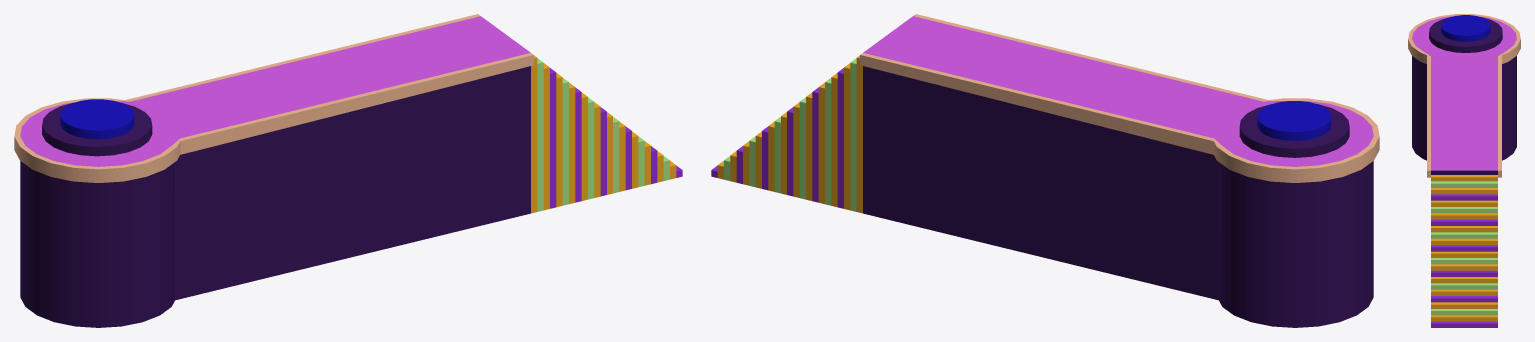
Rendered from stairs.fbx.
The picture shows the model from 3 angles, left to right: view 1: azimuth 30°, elevation 25°; view 2: azimuth 150°, elevation 25°; view 3: azimuth 270°, elevation 25°; orthographic projection. The views are drawn at different scales.
Parts seen in each view (by area): view 1: Box001, Cylinder001, Cylinder002; view 2: Box001, Cylinder001, Cylinder002; view 3: Box001, Cylinder001, Cylinder002.
Part boxes in pixels (x1,y1,x2,y2): Box001: (14,14,682,327); Cylinder001: (42,102,152,156); Cylinder002: (60,99,134,139); Box001: (711,14,1379,327); Cylinder001: (1239,104,1349,157); Cylinder002: (1257,101,1331,140); Box001: (1408,14,1520,327); Cylinder001: (1429,17,1502,52); Cylinder002: (1441,15,1490,41).
Size of the model in its own units: 7195 by 1951 by 1662.
